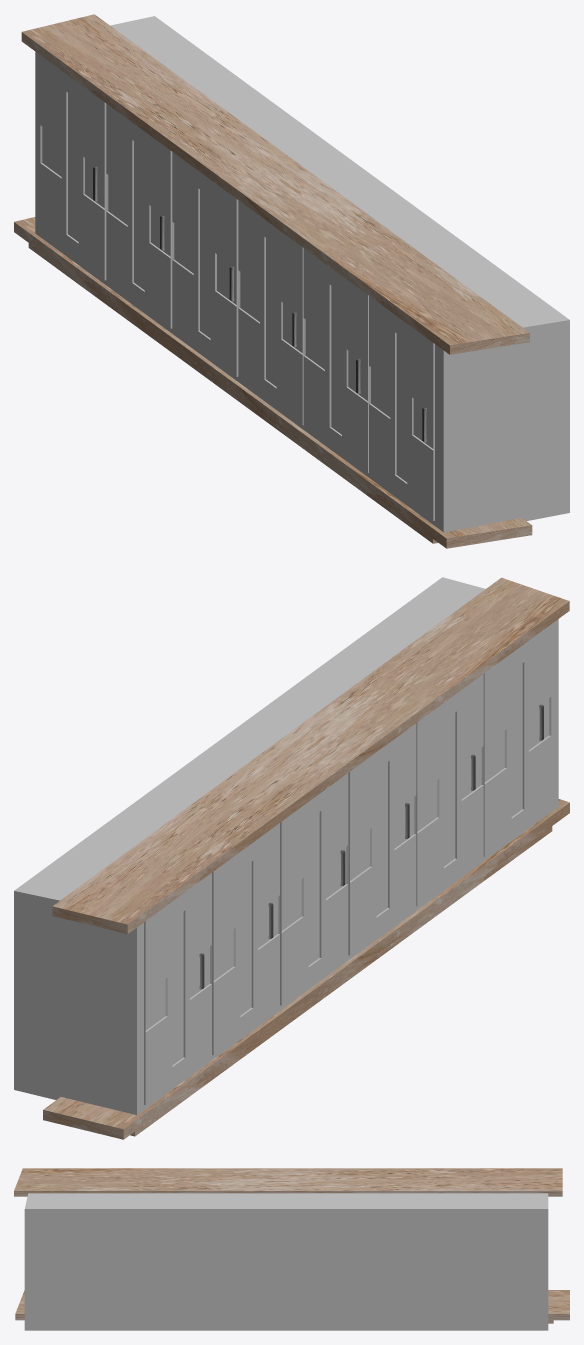
The model's file is Cabinets draws above fridge.fbx.
3 views of the same model, one above another, from view 1: azimuth 30°, elevation 25°; view 2: azimuth 150°, elevation 25°; view 3: azimuth 270°, elevation 25° (orthographic). The views are drawn at different scales.
Parts seen in each view (by area): view 1: pCube1078, pCube1080, pCube1072, pCube1074, pCube1073, pCube1075, pCube1076, pCube1077, pCube1079, pCube991; view 2: pCube1078, pCube1080, pCube1077, pCube1075, pCube1074, pCube1072, pCube1073, pCube1076, pCube1079, pCube991; view 3: pCube1078, pCube1080, pCube1079.
Part boxes in pixels (x1,y1,x2,y2): pCube1078: [35, 16, 569, 532]; pCube1080: [21, 14, 529, 354]; pCube1072: [40, 55, 106, 280]; pCube1074: [172, 152, 238, 376]; pCube1073: [106, 103, 172, 328]; pCube1075: [238, 200, 303, 425]; pCube1076: [303, 248, 368, 472]; pCube1077: [369, 296, 434, 520]; pCube1079: [14, 217, 532, 548]; pCube991: [28, 243, 438, 543]; pCube1078: [14, 577, 558, 1114]; pCube1080: [52, 577, 569, 934]; pCube1077: [483, 624, 551, 856]; pCube1075: [348, 723, 416, 955]; pCube1074: [280, 773, 347, 1005]; pCube1072: [144, 873, 211, 1104]; pCube1073: [212, 823, 279, 1055]; pCube1076: [416, 674, 483, 905]; pCube1079: [43, 799, 569, 1139]; pCube991: [130, 826, 552, 1136]; pCube1078: [24, 1193, 548, 1330]; pCube1080: [14, 1168, 562, 1196]; pCube1079: [15, 1290, 569, 1320].
Size of the model in its own units: 122 by 199 by 756.
